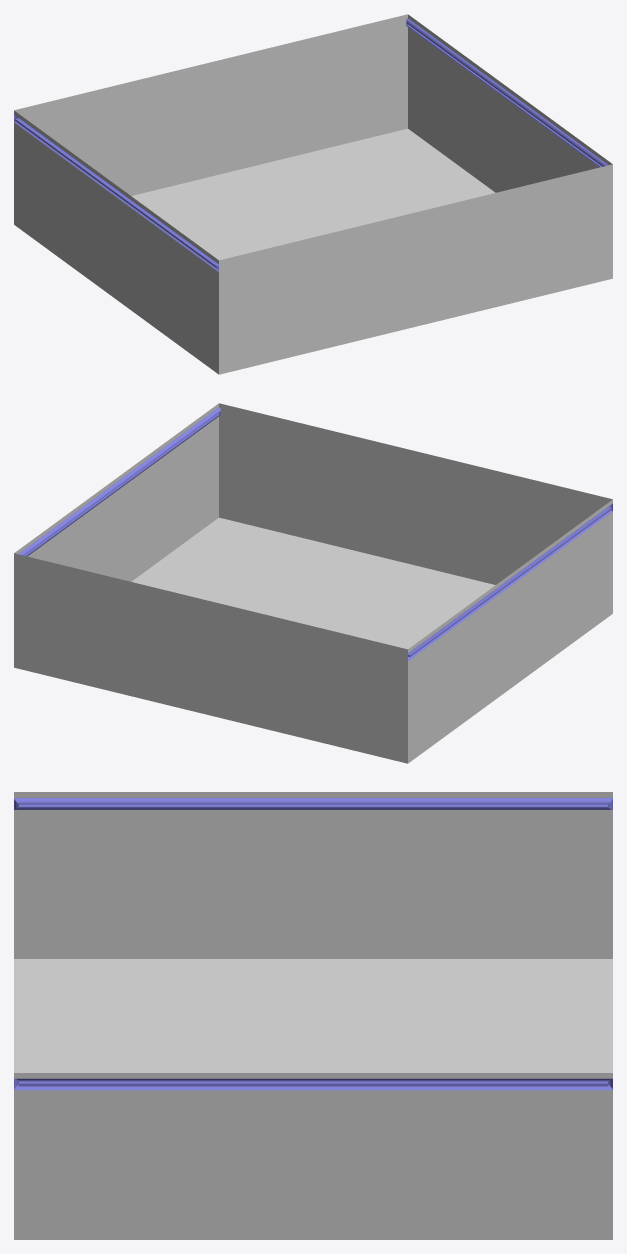
The model's file is New_Big_Trap_Base.fbx.
The picture shows the model from 3 angles, top to bottom: view 1: azimuth 30°, elevation 25°; view 2: azimuth 150°, elevation 25°; view 3: azimuth 270°, elevation 25°; orthographic projection. The views are drawn at different scales.
Visible parts, largest first — view 1: Cube.006; view 2: Cube.006; view 3: Cube.006.
Part boxes in pixels (box(x1,y1,x2,y2)): Cube.006: box(14, 14, 612, 374); Cube.006: box(14, 403, 612, 763); Cube.006: box(14, 792, 612, 1239).
Bounding box in the file's own units: 1001 × 277 × 899.
